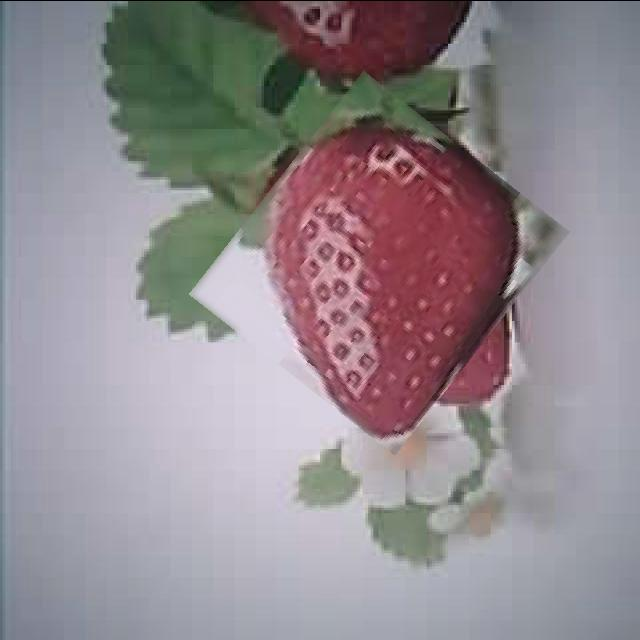strawberry: (219, 95, 541, 429)
